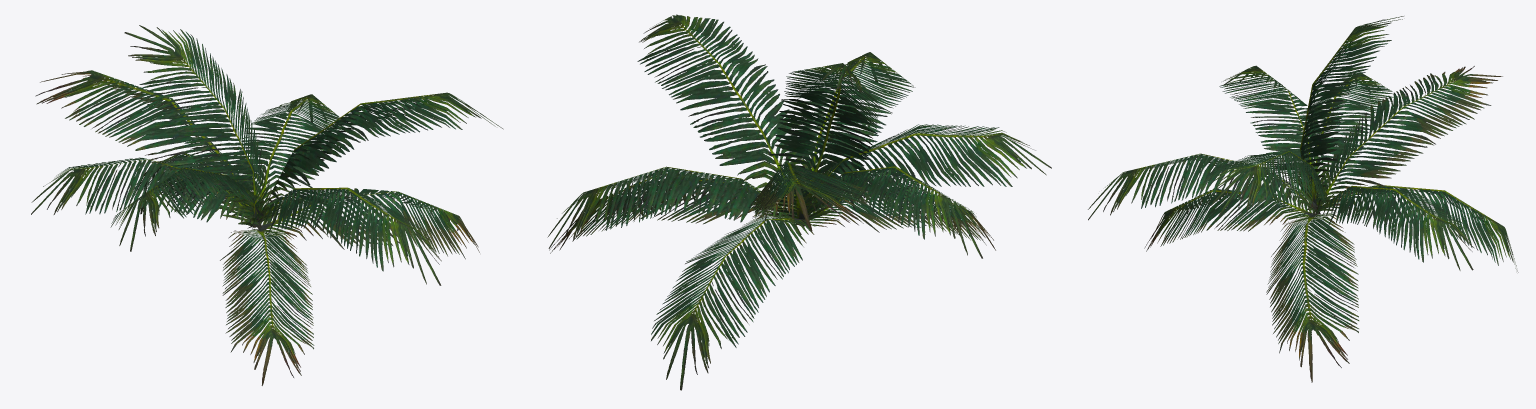
The model's file is leaf.fbx.
The picture shows the model from 3 angles, left to right: view 1: azimuth 30°, elevation 25°; view 2: azimuth 150°, elevation 25°; view 3: azimuth 270°, elevation 25°; orthographic projection. The views are drawn at different scales.
Parts seen in each view (by area): view 1: mesh0_mesh0.004; view 2: mesh0_mesh0.004; view 3: mesh0_mesh0.004.
Part boxes in pixels (x1=…): mesh0_mesh0.004: x1=31, y1=25, x2=503, y2=385; mesh0_mesh0.004: x1=547, y1=14, x2=1051, y2=390; mesh0_mesh0.004: x1=1088, y1=16, x2=1518, y2=382.
Size of the model in its own units: 678 by 425 by 675.
